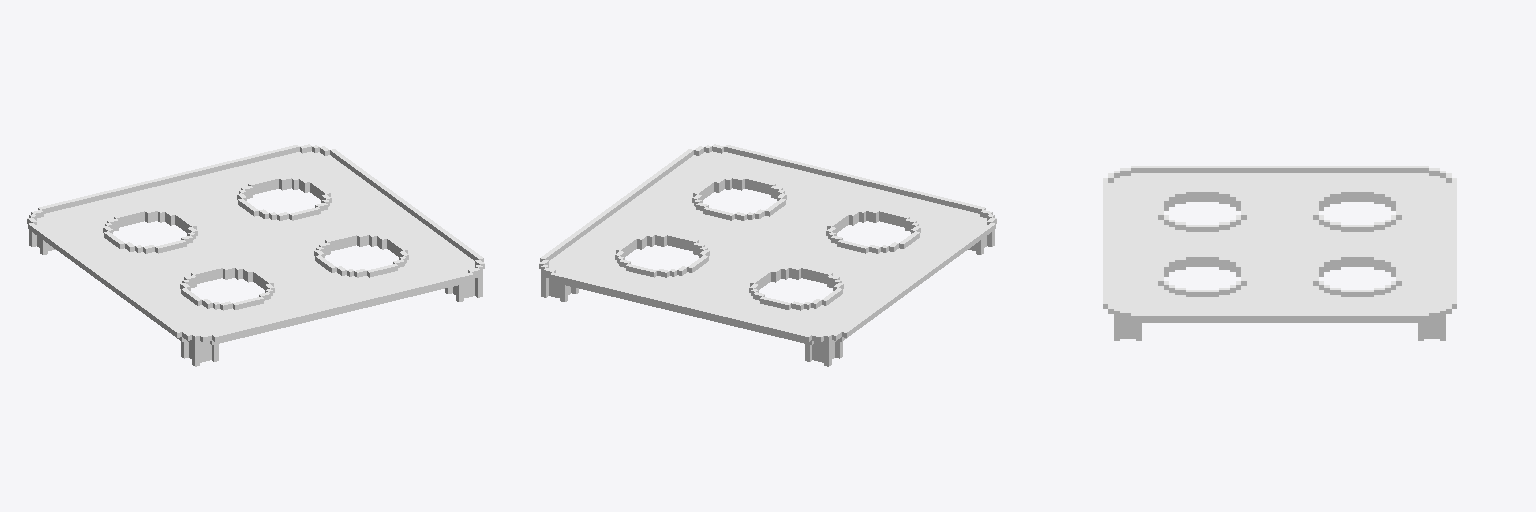
File: spaceshipPlateform_base.obj
3 renders of one model, left to right at view 1: azimuth 30°, elevation 25°; view 2: azimuth 150°, elevation 25°; view 3: azimuth 270°, elevation 25°, orthographic.
Parts seen in each view (by area): view 1: object 1; view 2: object 1; view 3: object 1.
Boxes of the visible parts, <box> form: object 1: <box>27,144,484,366</box>; object 1: <box>539,144,996,366</box>; object 1: <box>1103,166,1456,340</box>.
Bounding box in the file's own units: 6.4 × 0.6 × 6.4.